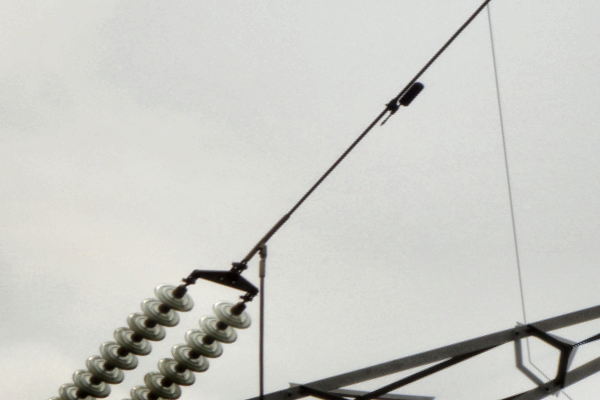damper_defect: (378, 80, 424, 129)
